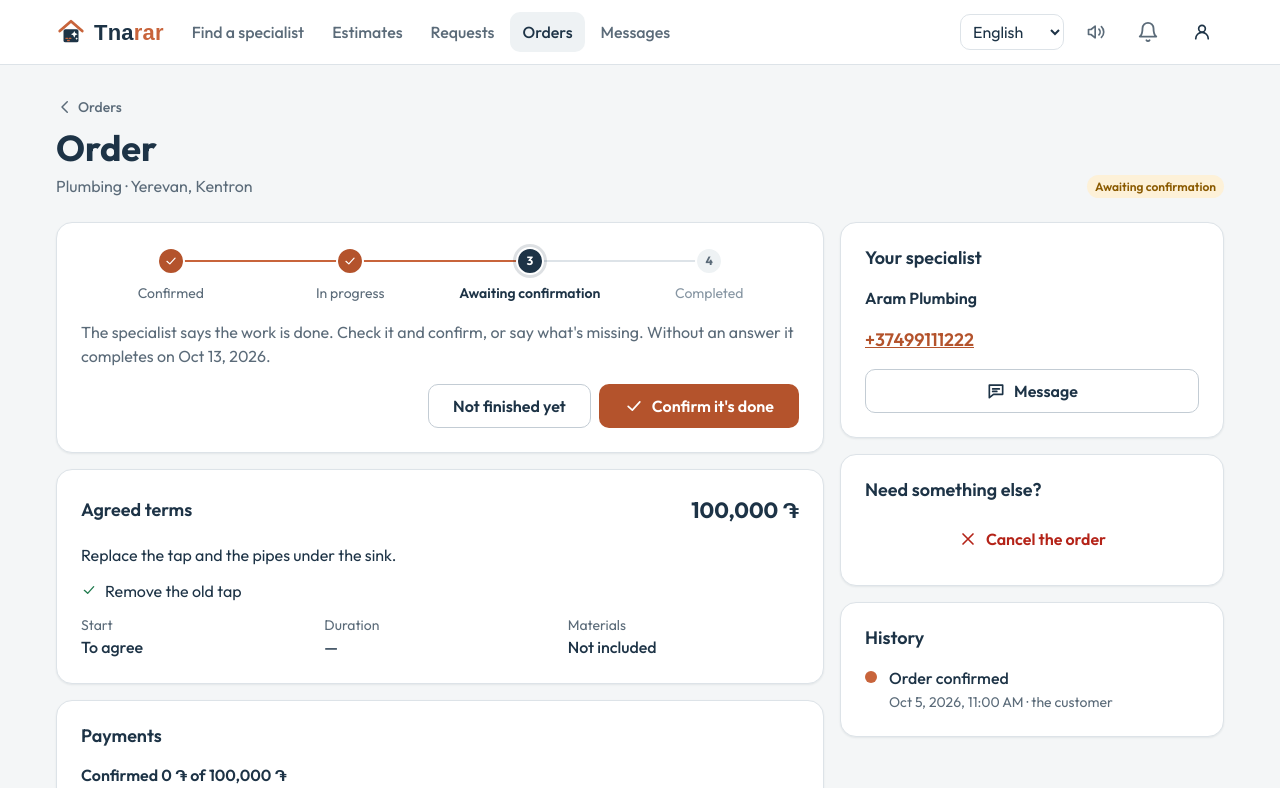
it: Order steps › confirms completion and shows action errors
The width and height of the screenshot is (1280, 788).
What coordinates should you click on to do the following:
click the button "Confirm it's done"
I would click on:
 (699, 406)
Its box is x1=599 y1=384 x2=799 y2=428.
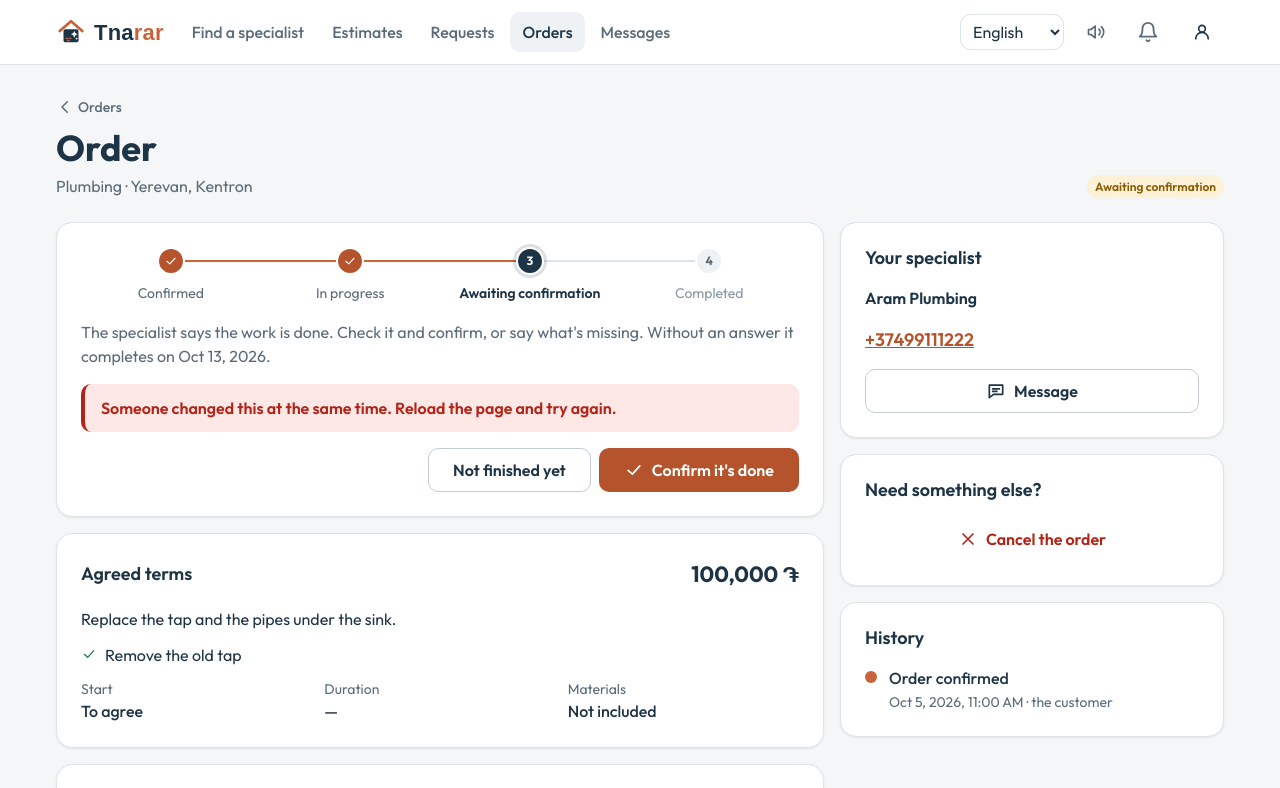
Expected: the text "Someone changed this at the same time. Reload the page and try again." is shown, x1=101 y1=398 x2=616 y2=418
What coordinates should you click on to do the following:
click the button "Confirm it's done"
I would click on:
 (699, 470)
Its box is x1=599 y1=448 x2=799 y2=492.
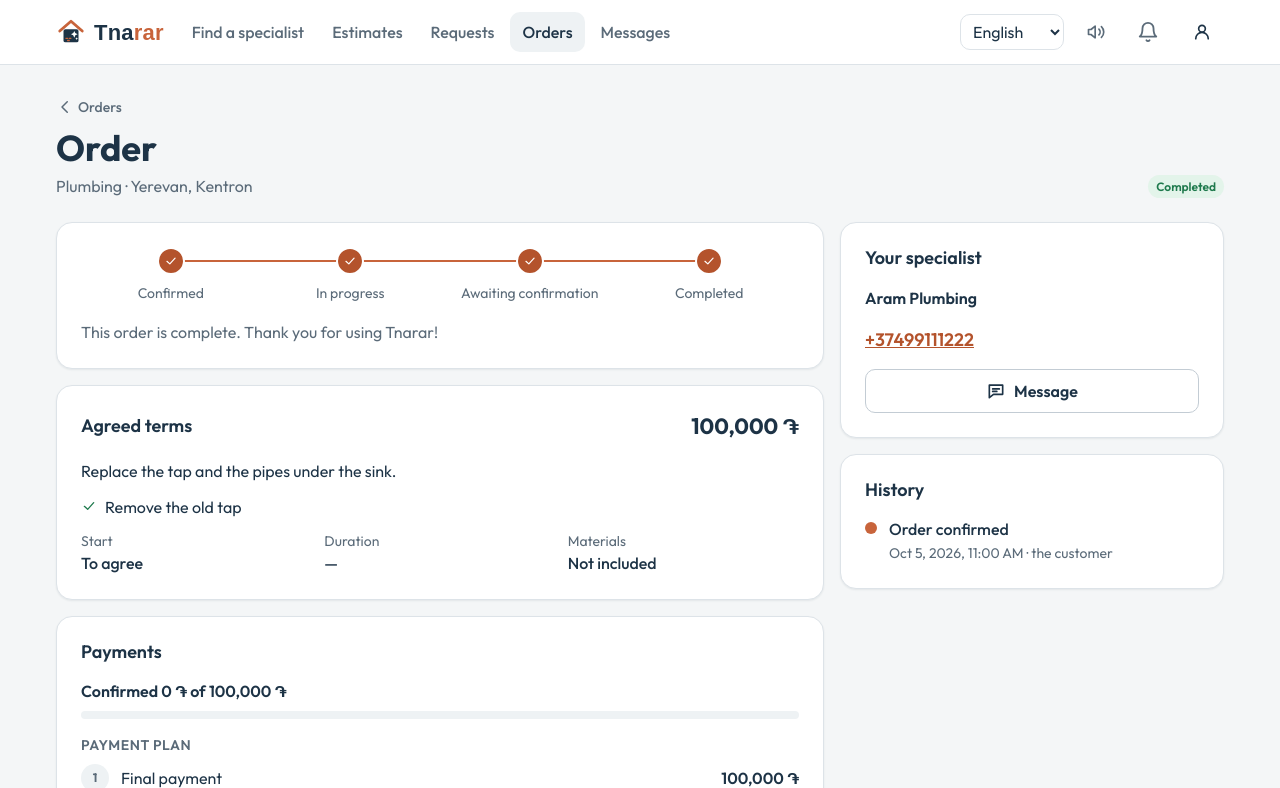
Expected: the text "This order is complete. Thank you for using Tnarar!" is shown, x1=81 y1=322 x2=438 y2=342
Expected: the heading "Need something else?" is gone
